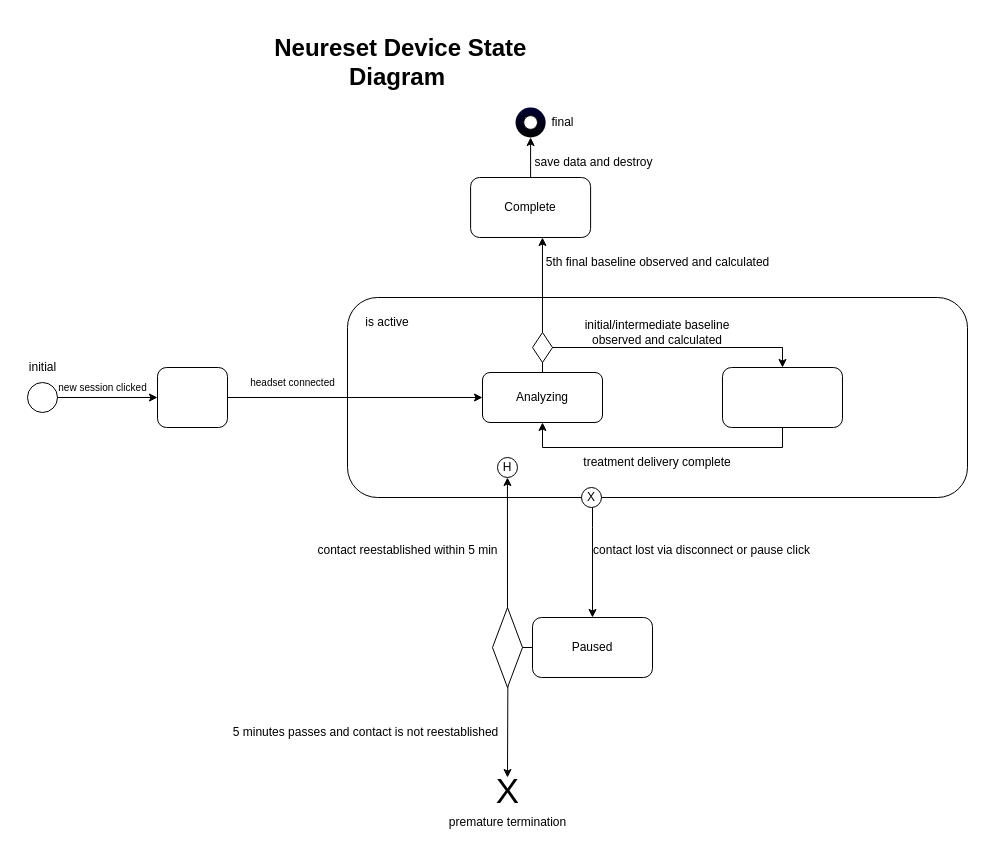
This 985x854 diagram has some shape labels left out. Here are the shapes that lost their labels. From the top down, the centre of each, then its label:
[192,397]: Ready
[782,397]: Treating
